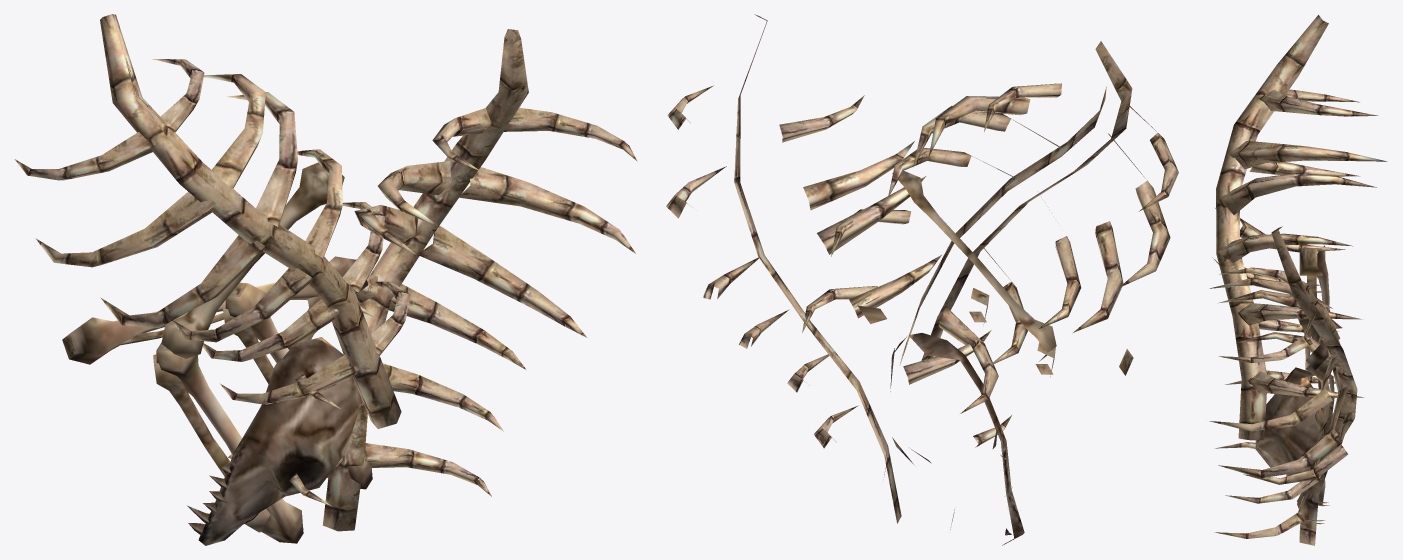
3 renders of one model, left to right at view 1: azimuth 30°, elevation 25°; view 2: azimuth 150°, elevation 25°; view 3: azimuth 270°, elevation 25°, orthographic. The views are drawn at different scales.
Parts seen in each view (by area): view 1: model_Object77; view 2: model_Object77; view 3: model_Object77.
Boxes of the visible parts, <box> form: model_Object77: <box>14,14,637,545</box>; model_Object77: <box>666,14,1178,545</box>; model_Object77: <box>1209,15,1387,545</box>.
Bounding box in the file's own units: 2.49 × 2.45 × 0.9029.
1 material, 1 textured.
